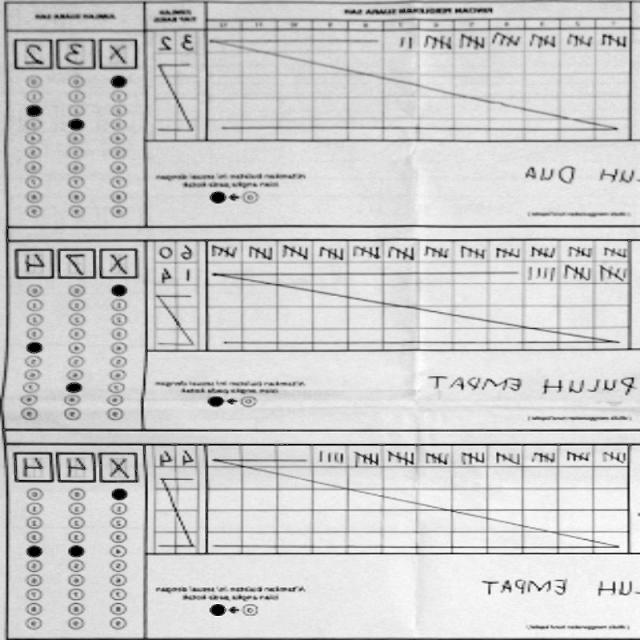Suara: (12, 242, 145, 282), (11, 444, 144, 484), (11, 30, 143, 70)
